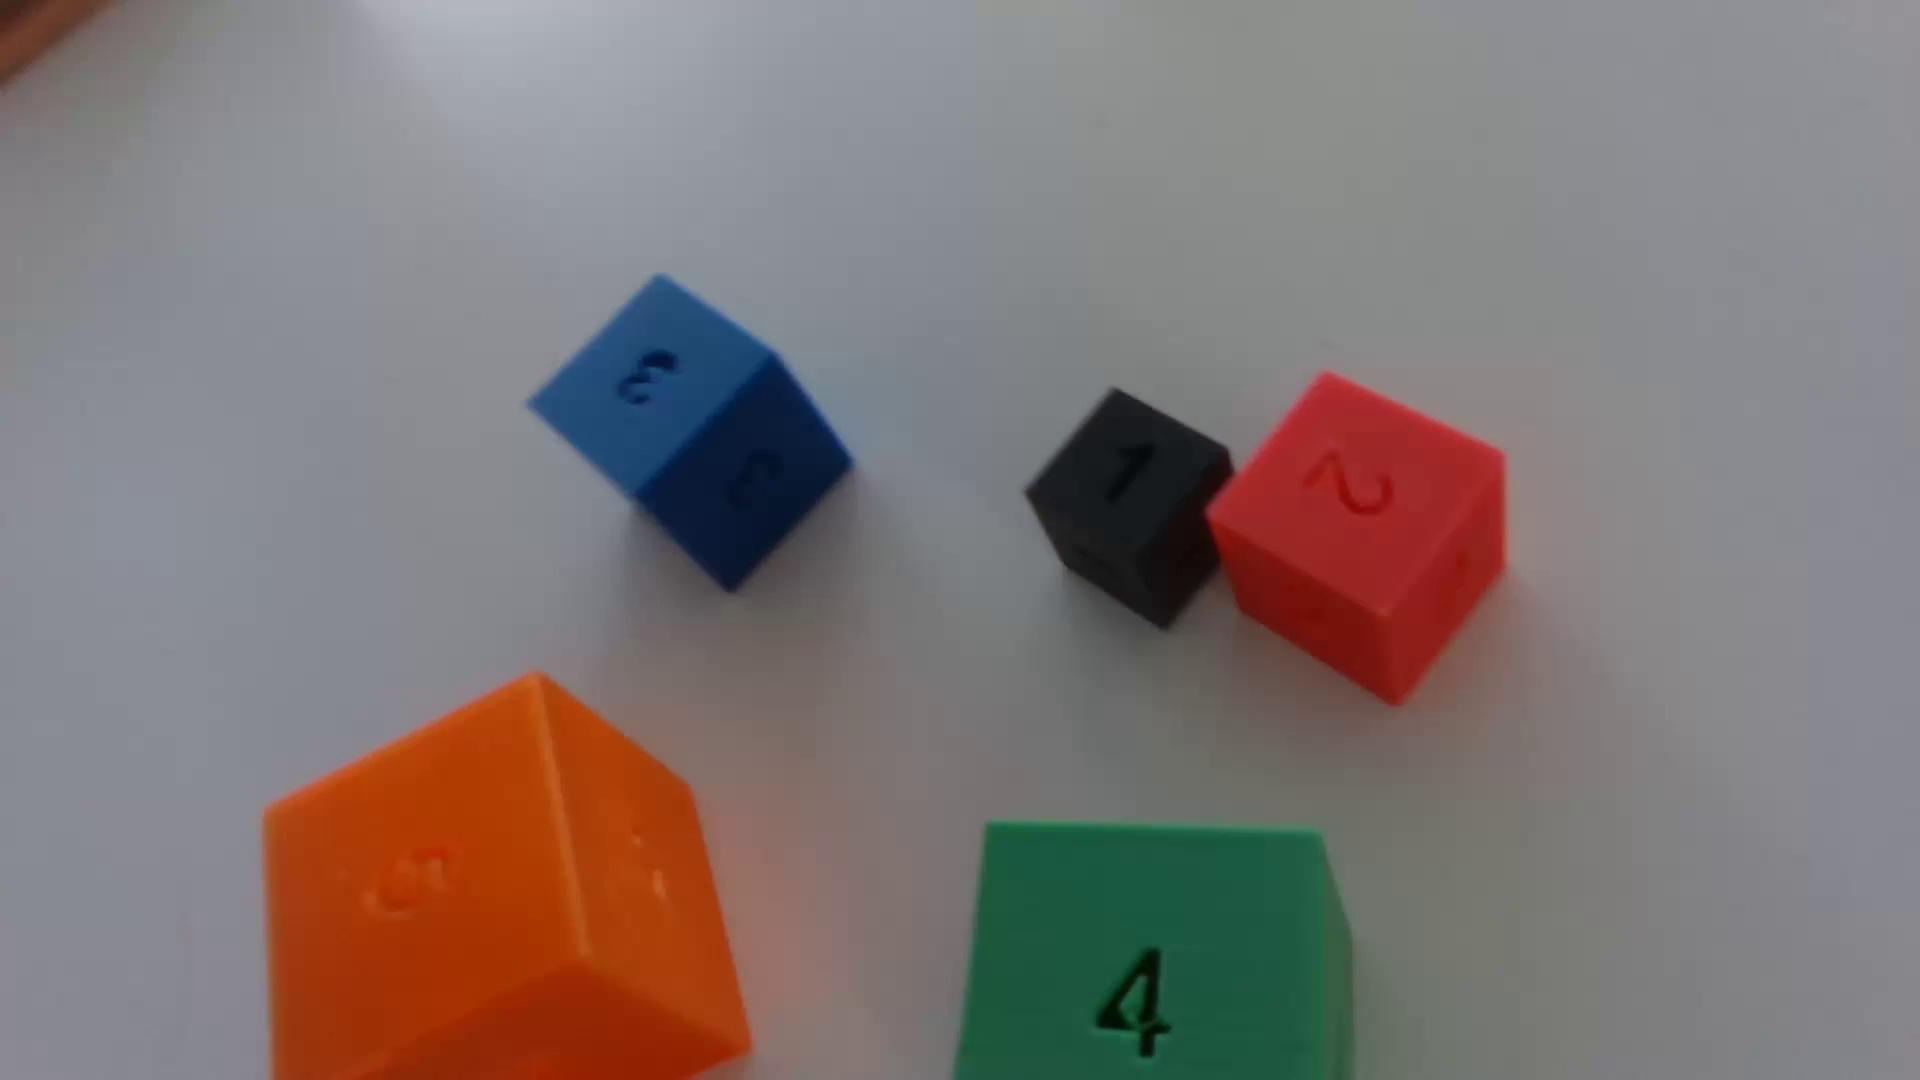black: (1026, 390, 1234, 630)
blue: (530, 277, 850, 592)
green: (955, 822, 1353, 1080)
orange: (263, 675, 750, 1080)
red: (1207, 374, 1506, 704)
